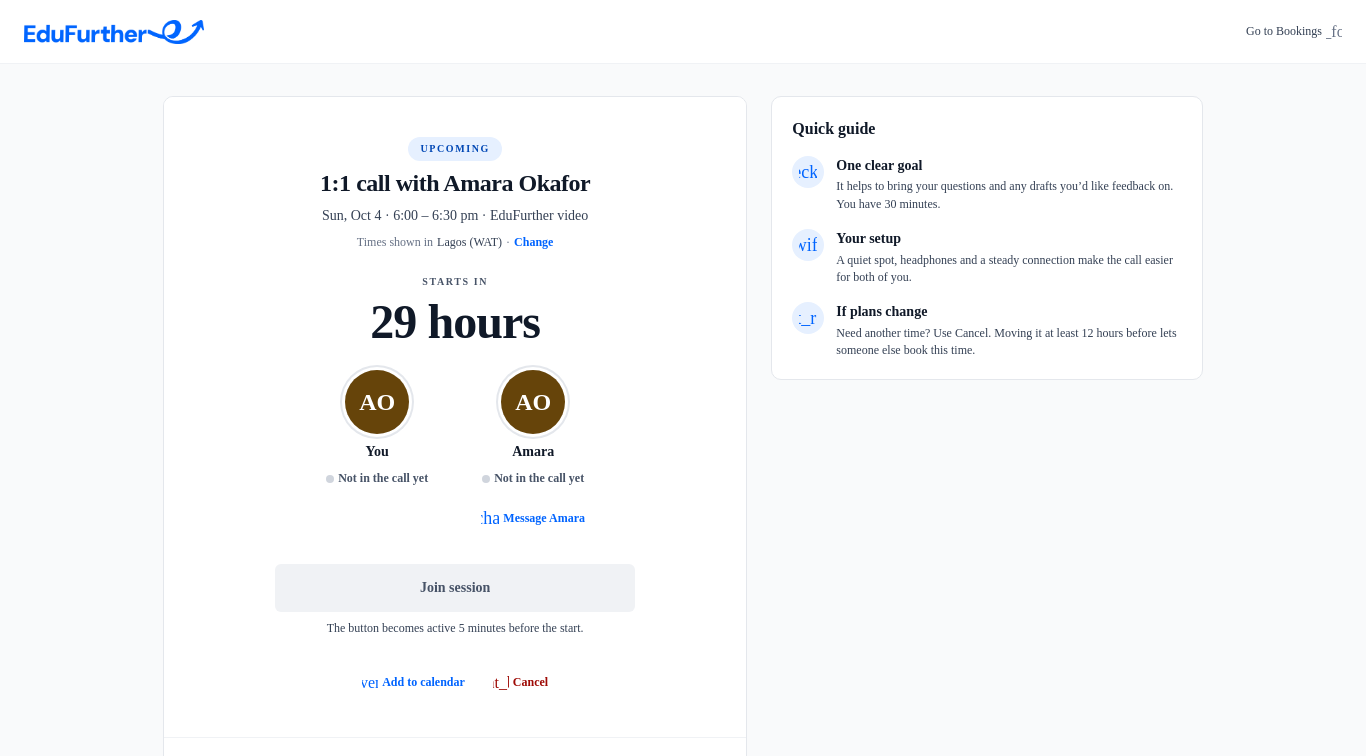
Scenario: Cancel on a mentee’s session › 29 hours out opens the move view, with the mentor’s open times
Step 1. Click the button "event_busy Cancel" → (520, 683), box x1=489 y1=661 x2=552 y2=705
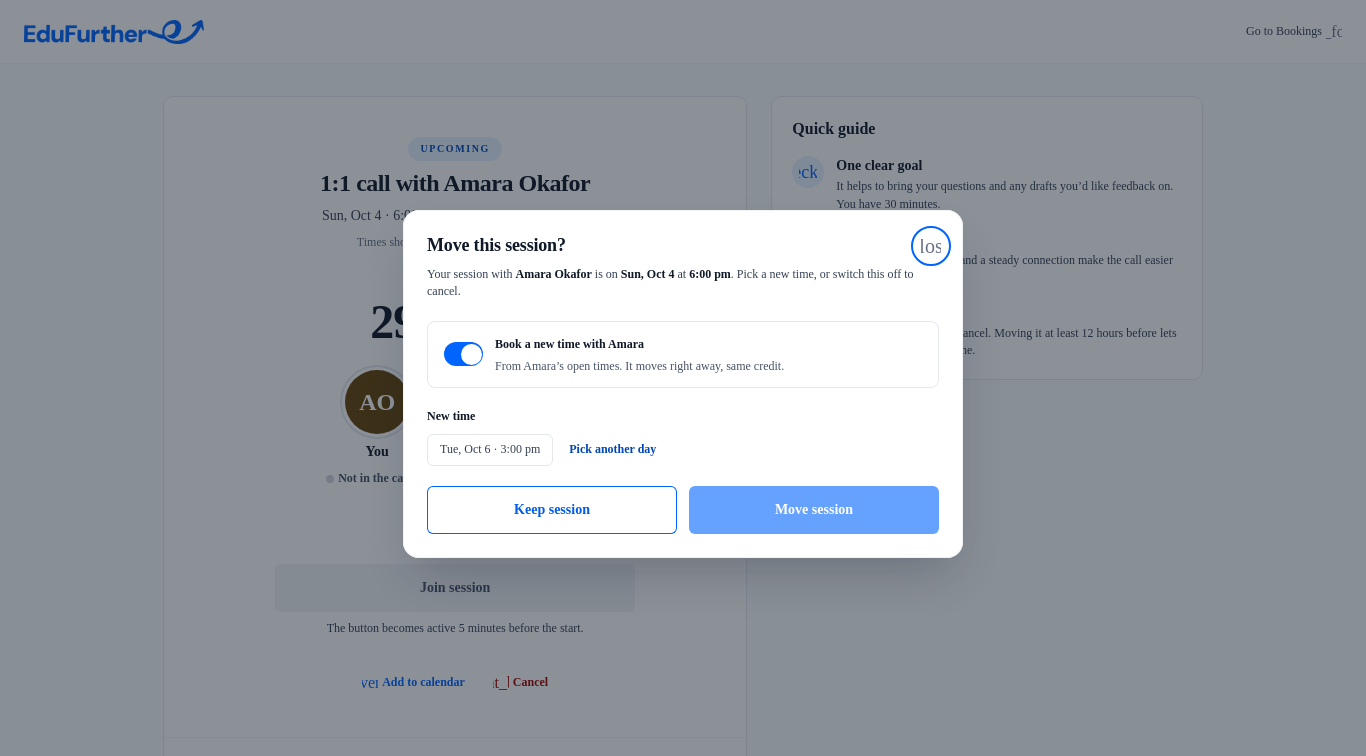
Expected: the dialog "Move this session?" is shown, x1=403 y1=210 x2=963 y2=558
